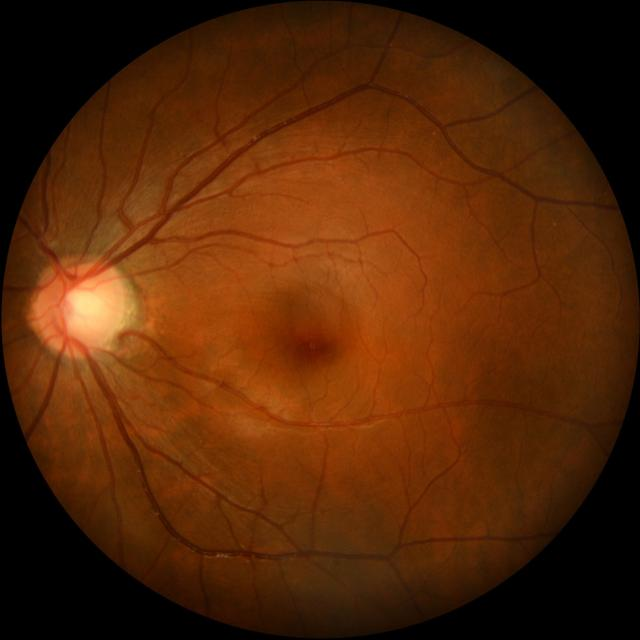OC: (60, 282, 106, 338)
OD: (38, 260, 125, 355)
